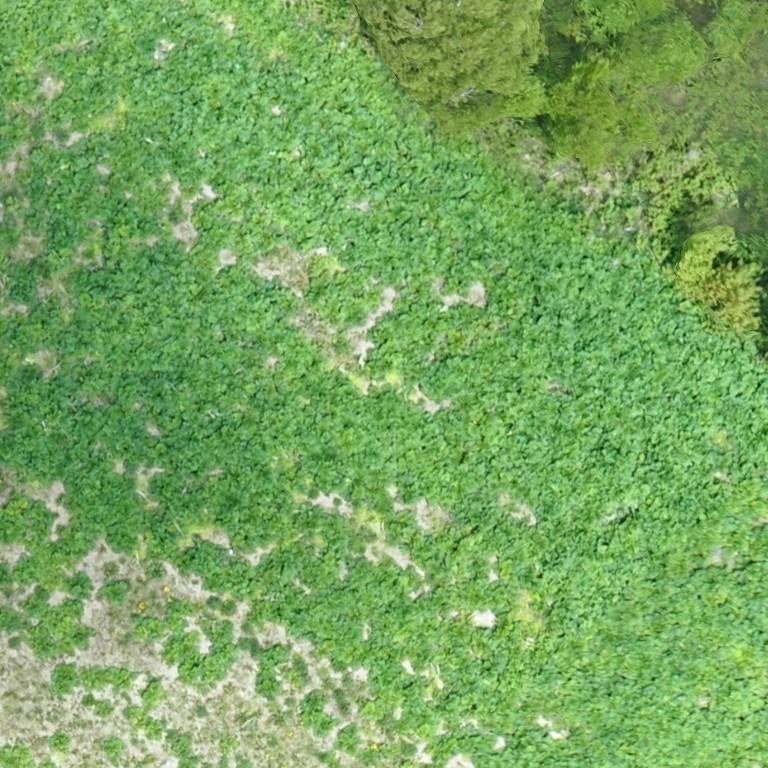hogweed: (0, 0, 767, 767), (0, 591, 88, 661), (166, 621, 231, 684), (54, 665, 129, 692), (140, 600, 190, 636), (257, 647, 287, 695), (303, 691, 334, 730), (167, 731, 194, 767), (0, 746, 33, 767), (103, 579, 129, 602), (142, 681, 161, 703), (51, 735, 70, 752)
